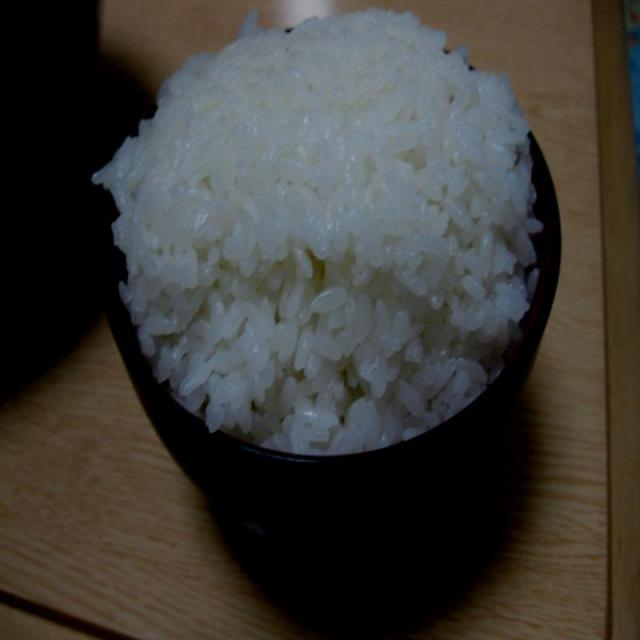rice: (97, 9, 548, 456)
